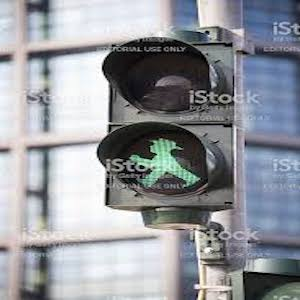green: (123, 130, 202, 193)
